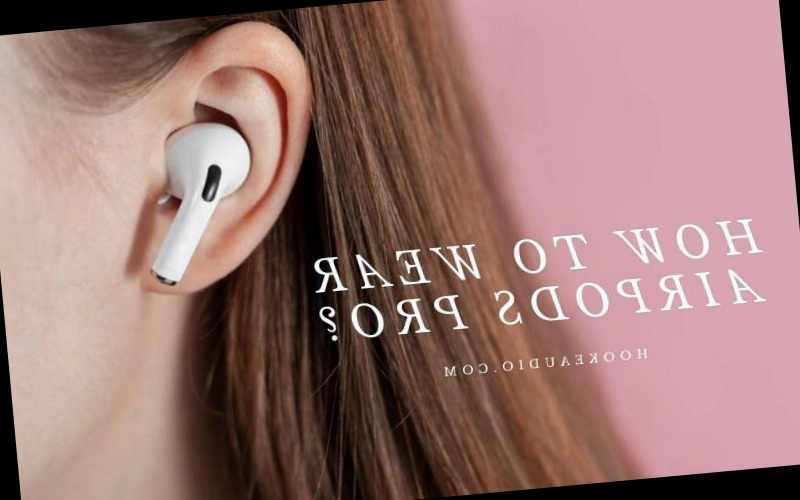earphone: (101, 16, 331, 301)
